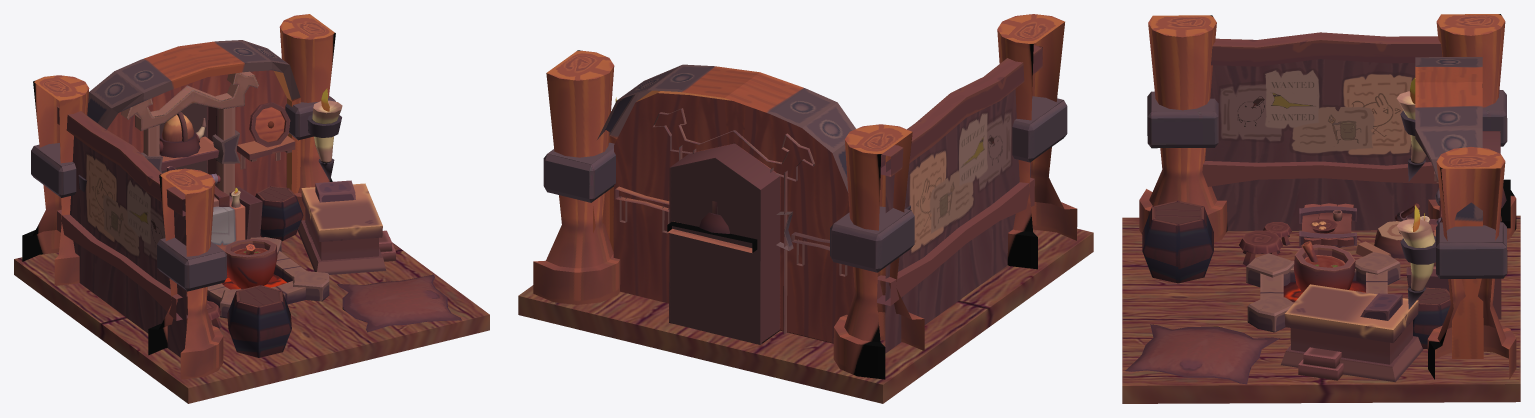
Rendered from viking_room.glb.
3 renders of one model, left to right at view 1: azimuth 30°, elevation 25°; view 2: azimuth 150°, elevation 25°; view 3: azimuth 270°, elevation 25°, orthographic. The views are drawn at different scales.
Parts seen in each view (by area): view 1: Box001_Material #2_0, wood_door_Material #2_0, Box002_Material #2_0, stand1_Material #2_0, Cylinder002_Material #2_0, Box008_Material #3_0, Cylinder004_Material #2_0, carpet_Material #3_0, barrel1_Material #3_0, Box005_Material #2_0, Box020_Material #2_0, Box003_Material #2_0 (+19 smaller); view 2: wood_door_Material #2_0, Box001_Material #2_0, Box002_Material #2_0, Cylinder004_Material #2_0, Cylinder002_Material #2_0, stand1_Material #2_0, Box005_Material #2_0, Box004_Material #2_0, Box006_Material #2_0, Box016_Material #2_0, Box003_Material #2_0, Box024_Material #2_0 (+2 smaller); view 3: Box001_Material #2_0, Box002_Material #2_0, wood_door_Material #2_0, stand1_Material #2_0, Box008_Material #3_0, Cylinder004_Material #2_0, Box005_Material #2_0, carpet_Material #3_0, barrel1_Material #3_0, Box006_Material #2_0, Cylinder002_Material #2_0, Box016_Material #2_0 (+21 smaller).
Boxes of the visible parts, x1,y1,x2,y2 form: Box001_Material #2_0: [14, 227, 489, 403]; wood_door_Material #2_0: [87, 40, 300, 196]; Box002_Material #2_0: [70, 136, 186, 357]; stand1_Material #2_0: [148, 168, 223, 379]; Cylinder002_Material #2_0: [22, 75, 89, 285]; Box008_Material #3_0: [298, 183, 386, 274]; Cylinder004_Material #2_0: [279, 14, 335, 220]; carpet_Material #3_0: [337, 274, 461, 332]; barrel1_Material #3_0: [227, 285, 291, 357]; Box005_Material #2_0: [57, 106, 185, 216]; Box020_Material #2_0: [121, 71, 258, 130]; Box003_Material #2_0: [157, 237, 226, 291]; wood_door_Material #2_0: [593, 64, 855, 344]; Box001_Material #2_0: [518, 228, 1093, 403]; Box002_Material #2_0: [885, 89, 1030, 353]; Cylinder004_Material #2_0: [533, 50, 620, 304]; Cylinder002_Material #2_0: [833, 124, 924, 379]; stand1_Material #2_0: [997, 14, 1077, 269]; Box005_Material #2_0: [880, 45, 1042, 176]; Box004_Material #2_0: [830, 206, 914, 272]; Box006_Material #2_0: [877, 177, 1034, 305]; Box016_Material #2_0: [543, 142, 615, 202]; Box003_Material #2_0: [1012, 96, 1067, 162]; Box024_Material #2_0: [667, 221, 757, 252]; Box001_Material #2_0: [1122, 215, 1520, 403]; Box002_Material #2_0: [1205, 59, 1438, 230]; wood_door_Material #2_0: [1415, 57, 1501, 358]; stand1_Material #2_0: [1139, 15, 1227, 242]; Box008_Material #3_0: [1281, 284, 1423, 382]; Cylinder004_Material #2_0: [1427, 147, 1516, 379]; Box005_Material #2_0: [1211, 32, 1442, 66]; carpet_Material #3_0: [1125, 324, 1279, 384]; barrel1_Material #3_0: [1142, 200, 1213, 283]; Box006_Material #2_0: [1202, 161, 1438, 186]; Cylinder002_Material #2_0: [1428, 14, 1516, 239]; Box016_Material #2_0: [1436, 222, 1507, 278].
Size of the model in its own units: 1 by 0.6537 by 1.
2 materials, 2 textured.
